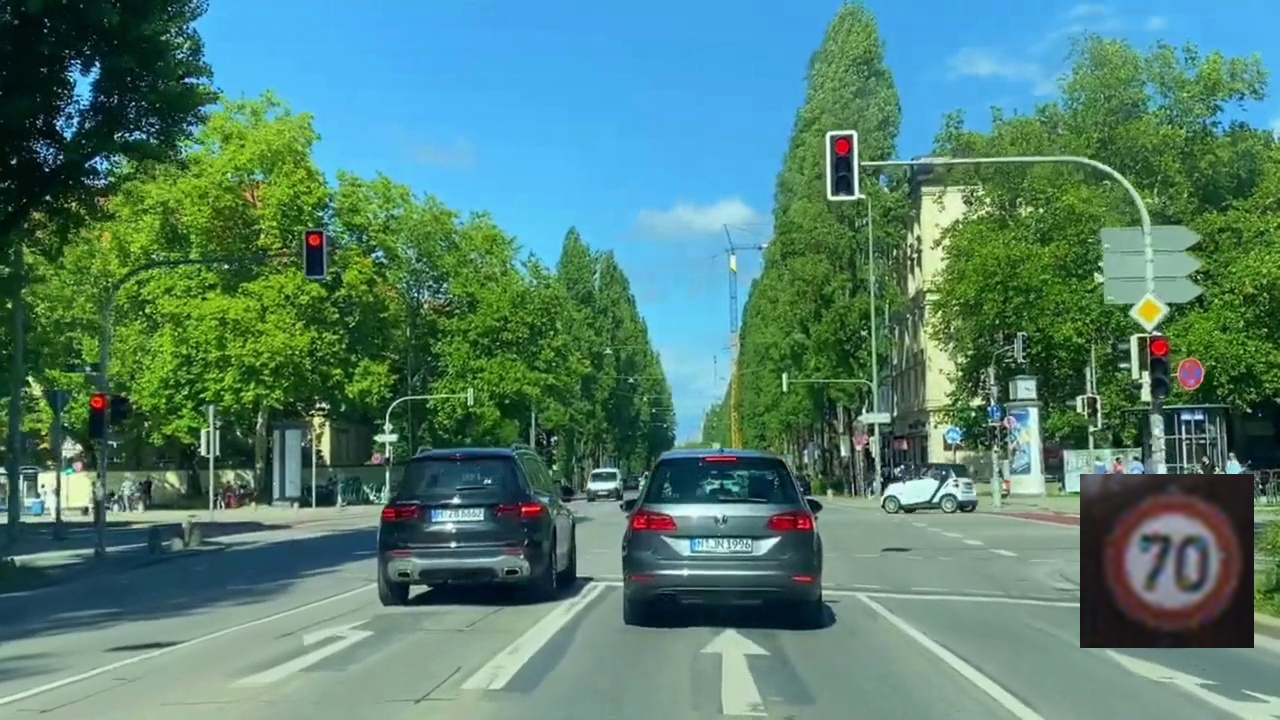Speed 70: (1080, 474, 1254, 648)
